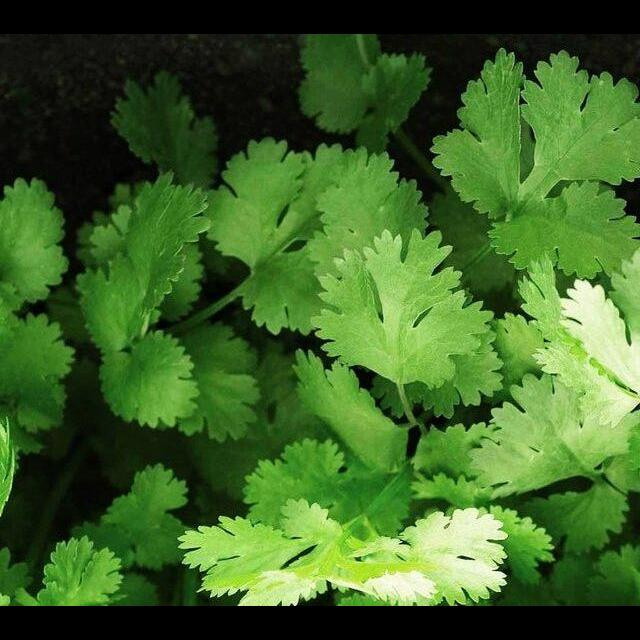cilantro: (0, 36, 640, 603)
